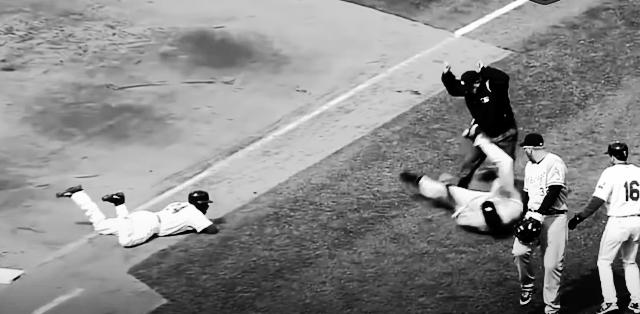jatuh: (395, 124, 527, 240), (50, 168, 224, 252)
